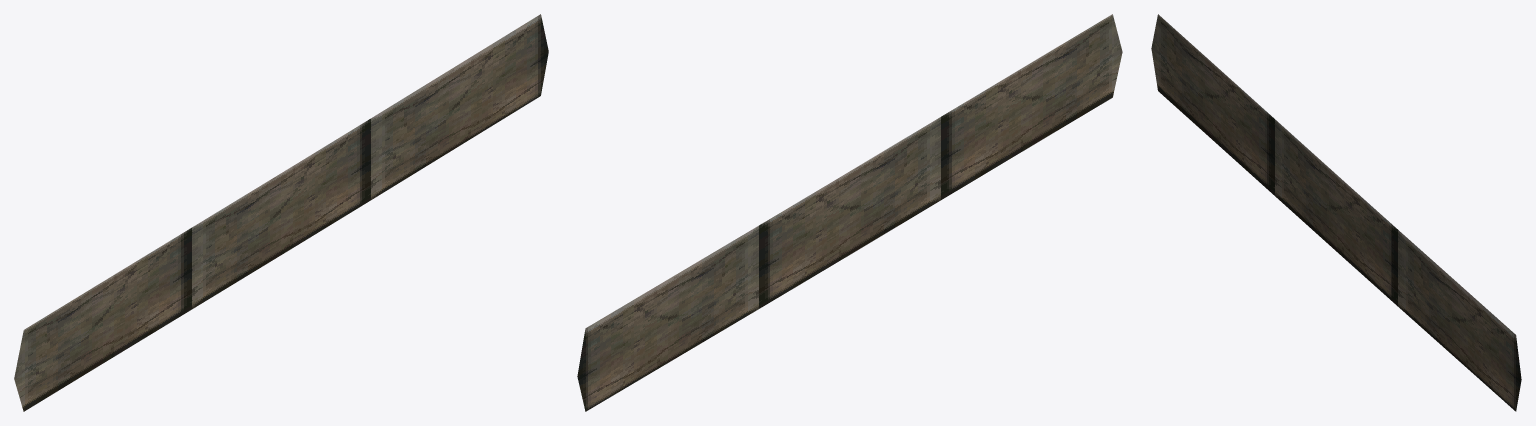
Rendered from CH09_SMAUG_PLAYSURFACE_LAIR118.fbx.
The picture shows the model from 3 angles, left to right: view 1: azimuth 30°, elevation 25°; view 2: azimuth 210°, elevation 25°; view 3: azimuth 270°, elevation 25°; orthographic projection. The views are drawn at different scales.
Visible parts, largest first — view 1: CH09_SMAUG_PLAYSURFACE_LAIR118; view 2: CH09_SMAUG_PLAYSURFACE_LAIR118; view 3: CH09_SMAUG_PLAYSURFACE_LAIR118.
Boxes of the visible parts, left/top/right/bottom form: CH09_SMAUG_PLAYSURFACE_LAIR118: left=14, top=14, right=548, bottom=411; CH09_SMAUG_PLAYSURFACE_LAIR118: left=577, top=14, right=1122, bottom=411; CH09_SMAUG_PLAYSURFACE_LAIR118: left=1151, top=14, right=1521, bottom=411.
Bounding box in the file's own units: 56858 × 6371 × 26514.
1 material, 1 textured.
